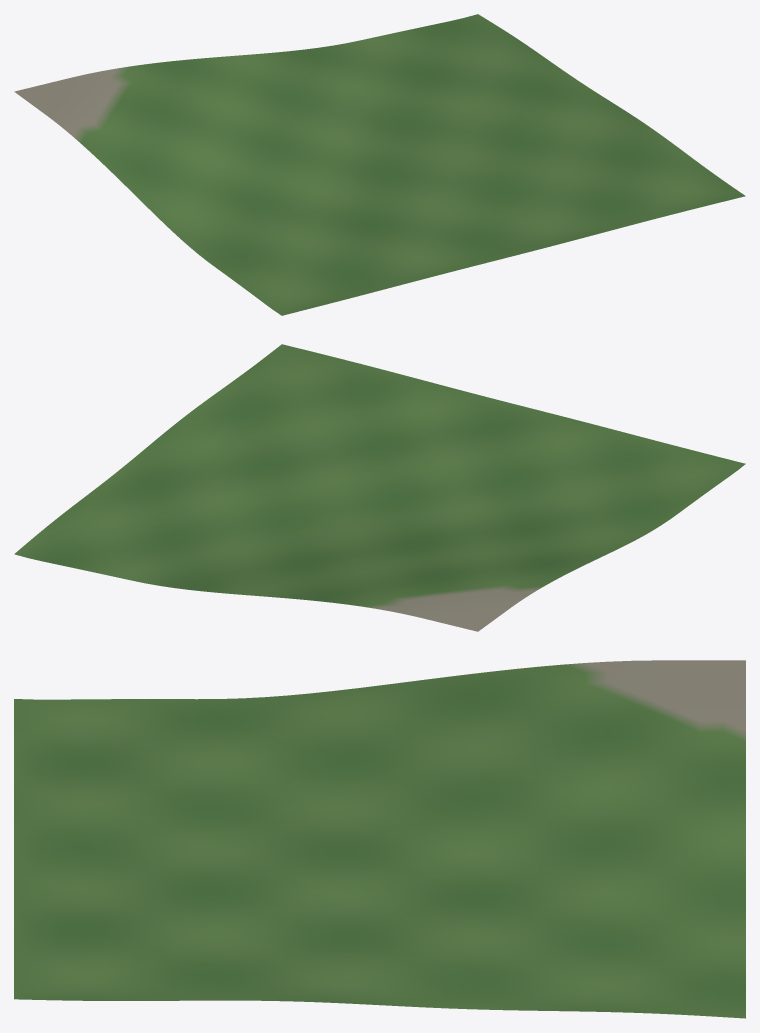
The model's file is chunk_11_11.glb.
3 renders of one model, top to bottom at view 1: azimuth 30°, elevation 25°; view 2: azimuth 150°, elevation 25°; view 3: azimuth 270°, elevation 25°, orthographic. The views are drawn at different scales.
Size of the model in its own units: 512 by 38.03 by 512.
